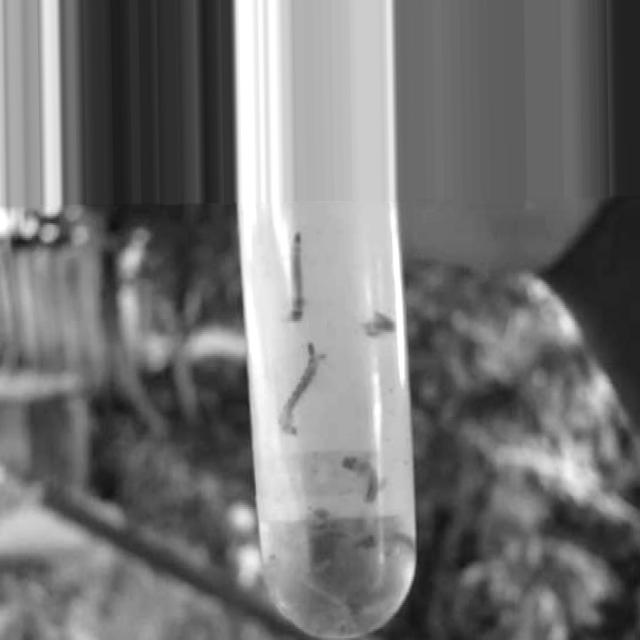larvas: (281, 350, 320, 436), (308, 558, 348, 606), (347, 454, 379, 502), (348, 590, 391, 619), (290, 229, 303, 317), (296, 511, 328, 546), (328, 526, 376, 549), (362, 308, 394, 338), (386, 526, 416, 558)
